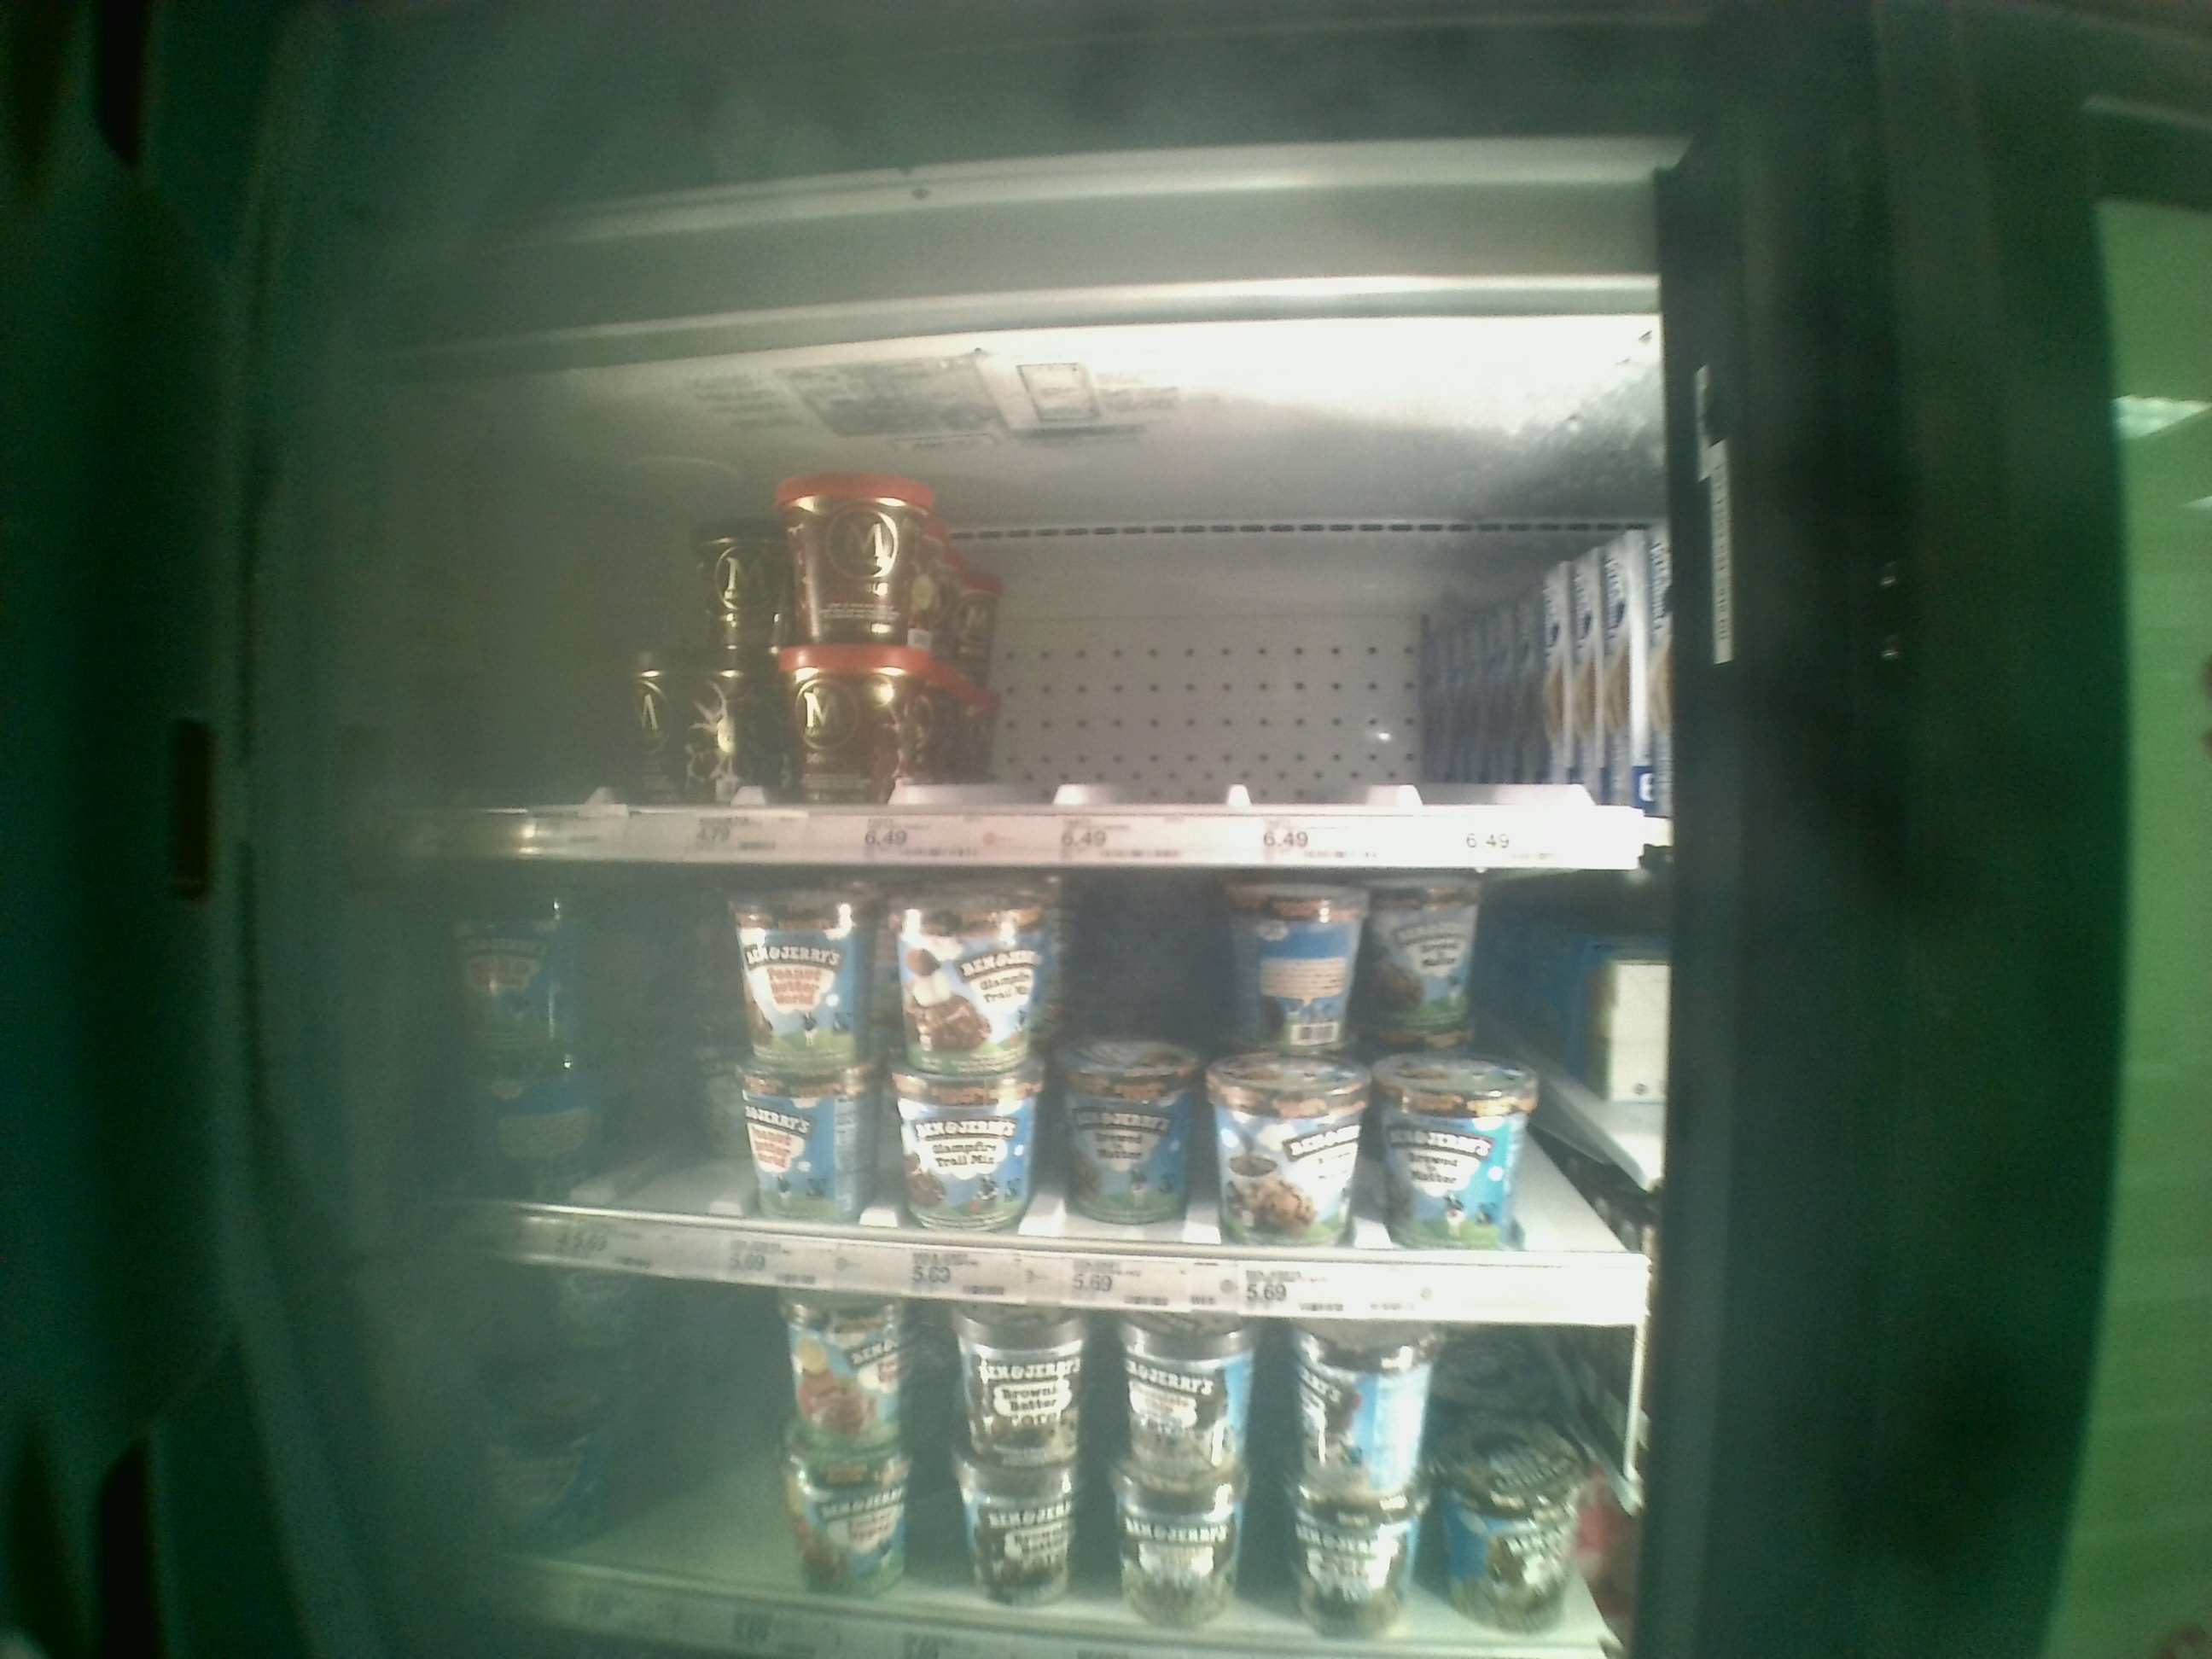ice-cream-shelf: (439, 859, 1649, 1337), (435, 415, 1656, 864)
